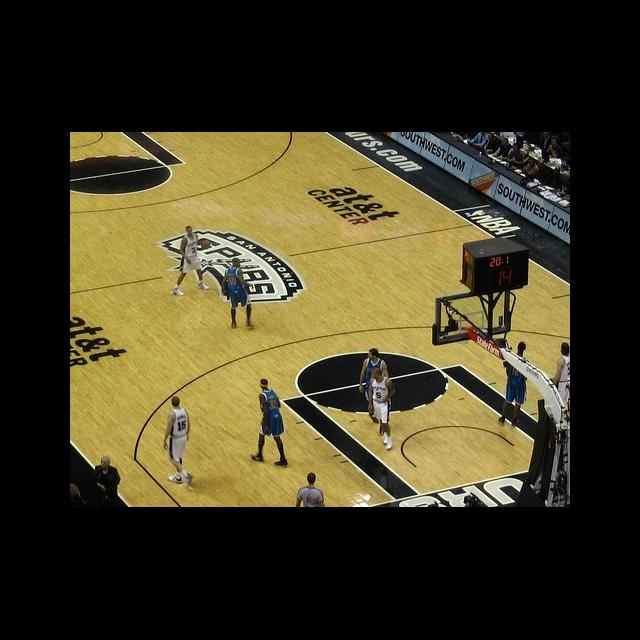basketball: (199, 239, 211, 250)
